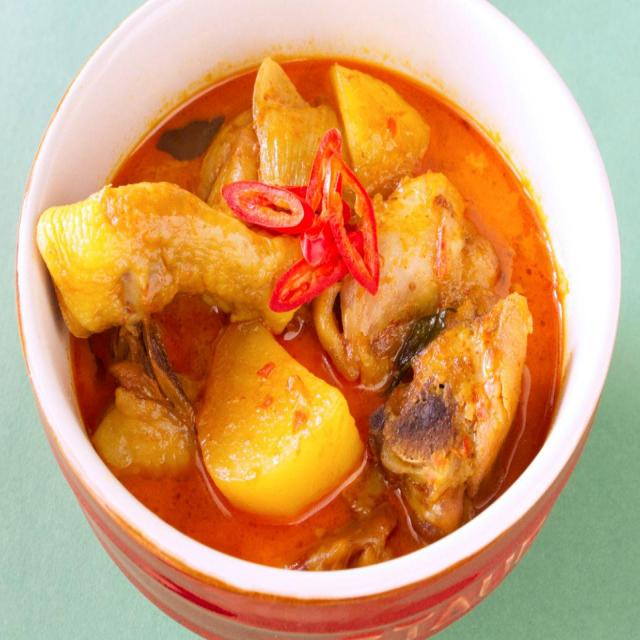chicken: (35, 66, 597, 555)
